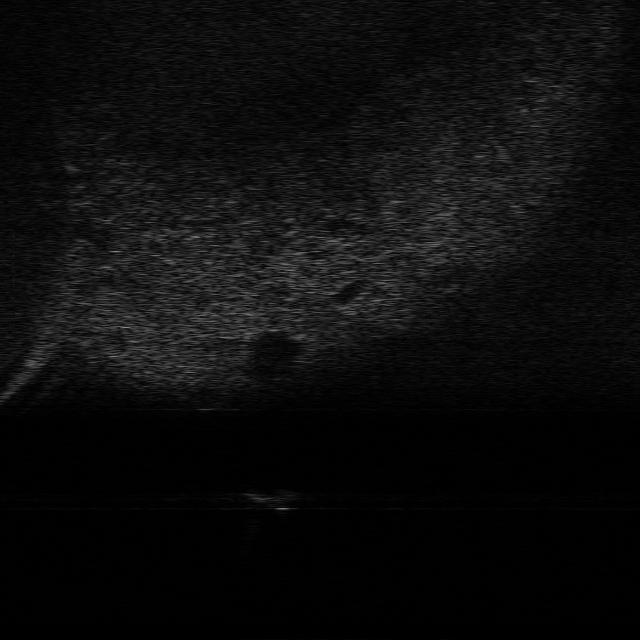cube: (240, 482, 299, 512)
